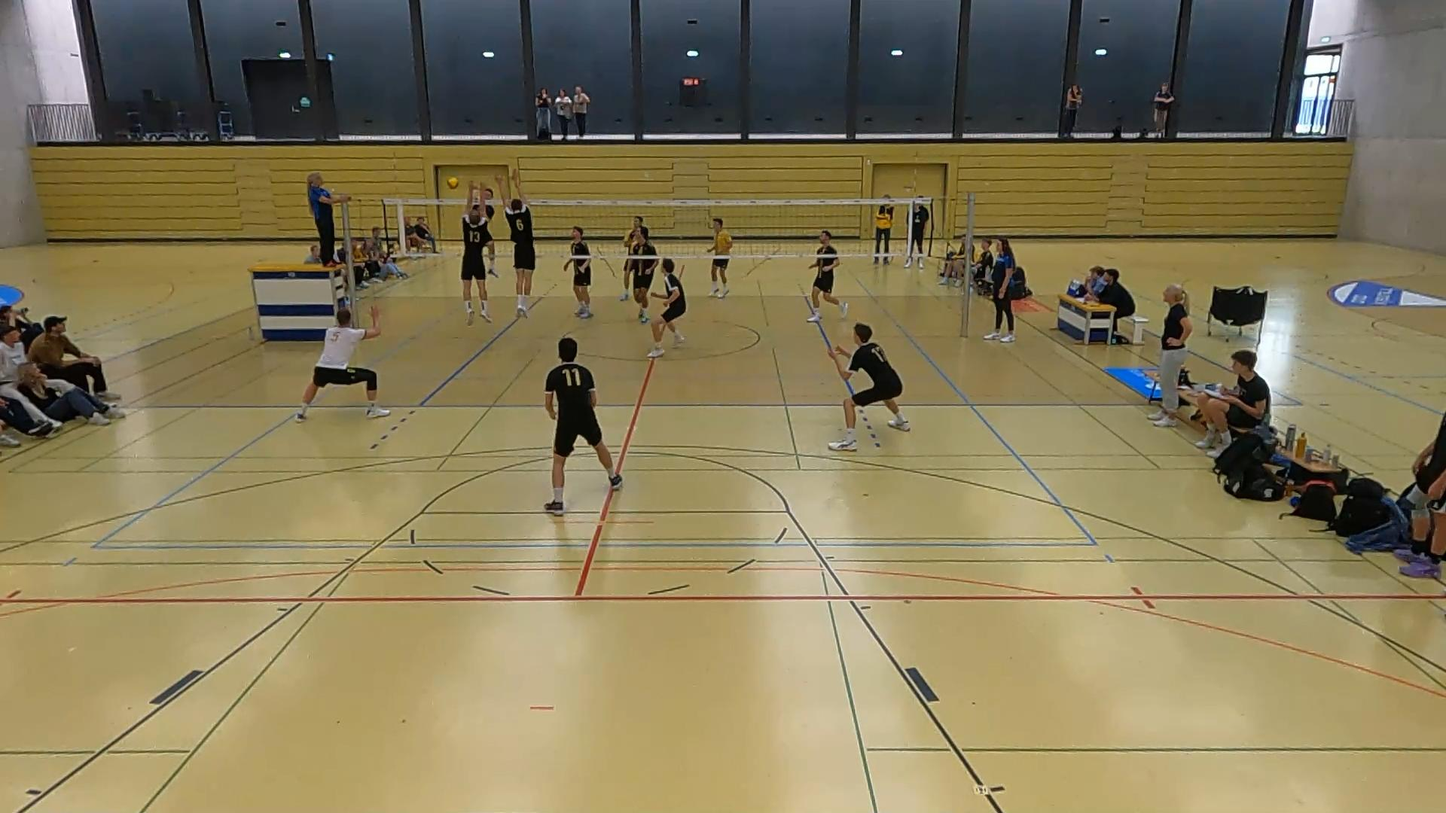Attack: (477, 184, 502, 284)
Block: (491, 164, 542, 321), (454, 174, 492, 327)
Player: (544, 337, 622, 516), (294, 306, 389, 422), (828, 323, 910, 451), (648, 258, 685, 358), (807, 230, 847, 322), (564, 226, 592, 318), (633, 225, 658, 324), (618, 216, 642, 301), (709, 218, 732, 298)
ball: (443, 169, 461, 195)
